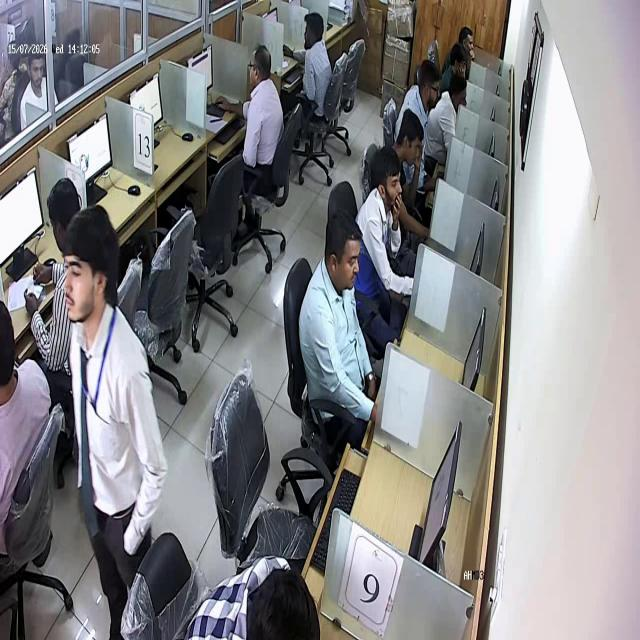paper-chit: (26, 273, 44, 299)
